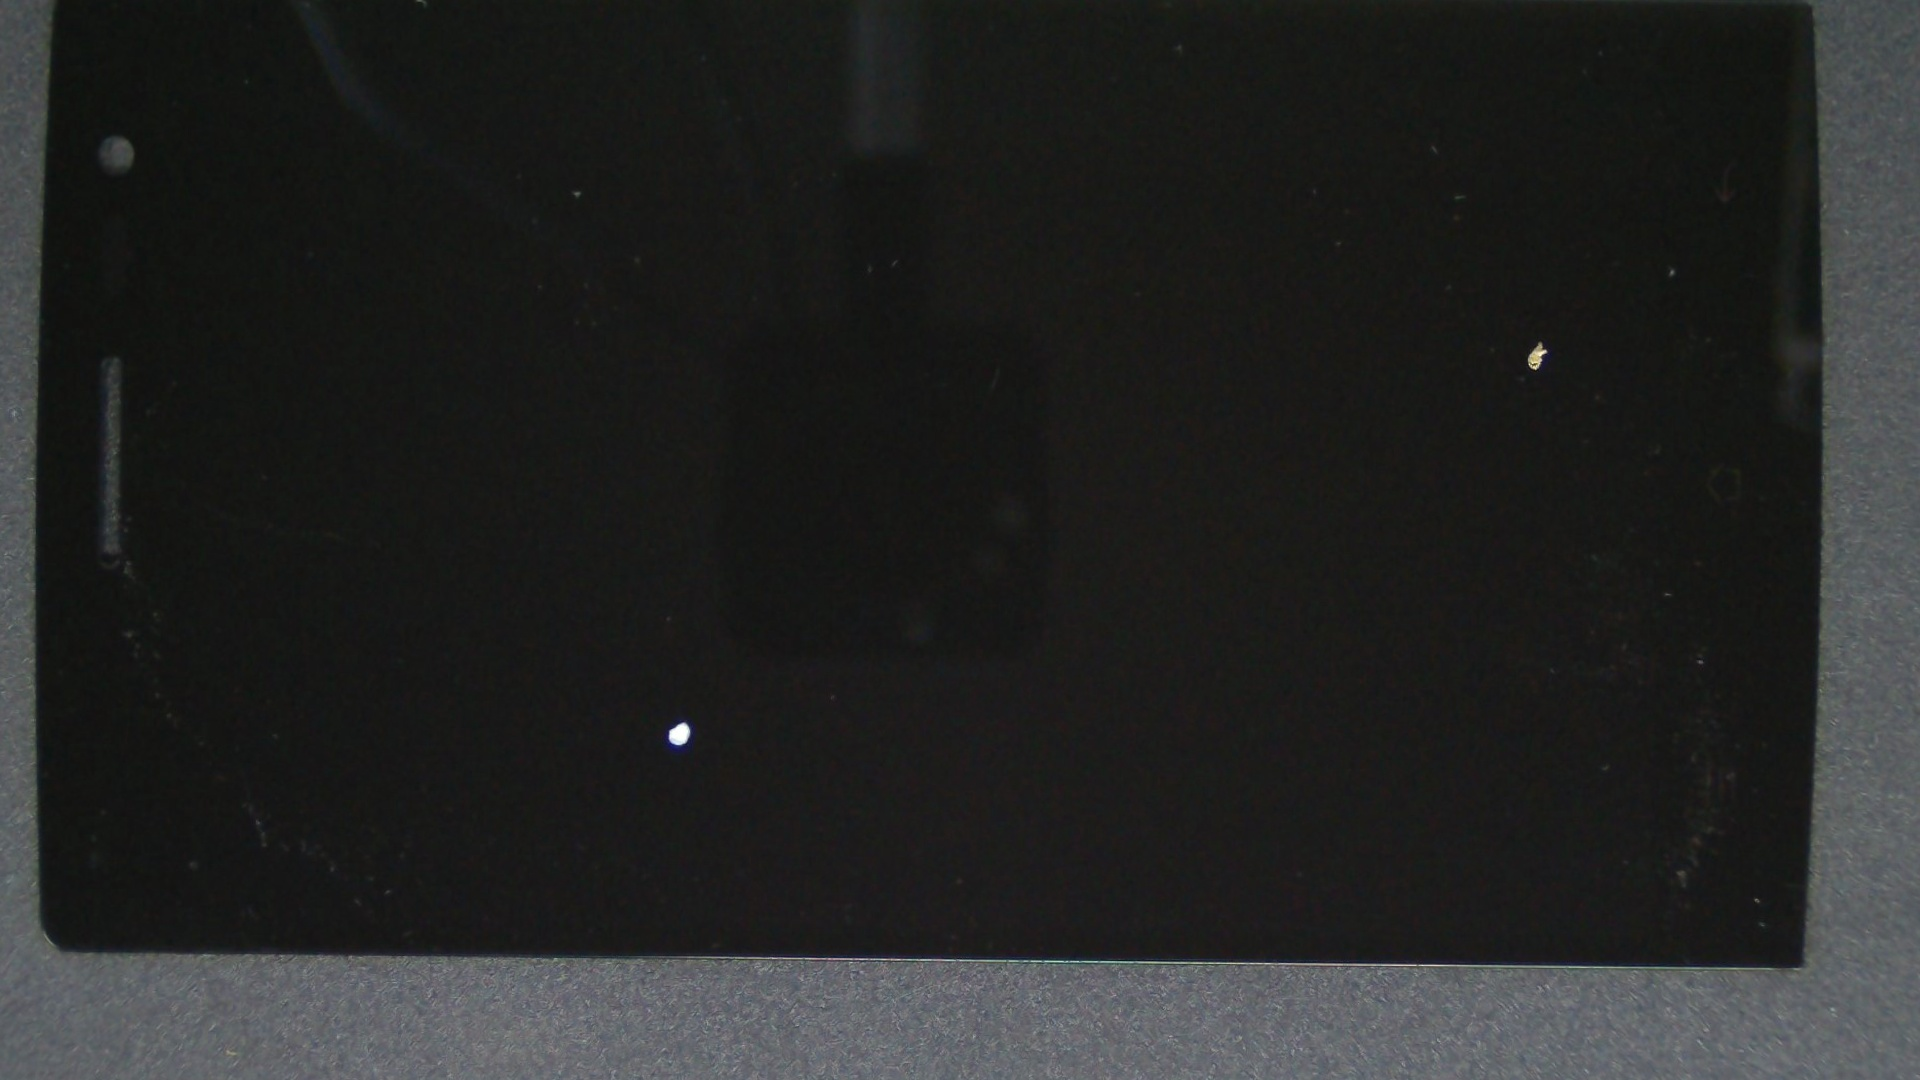oil: (322, 306, 1043, 1080), (750, 116, 1920, 562)
